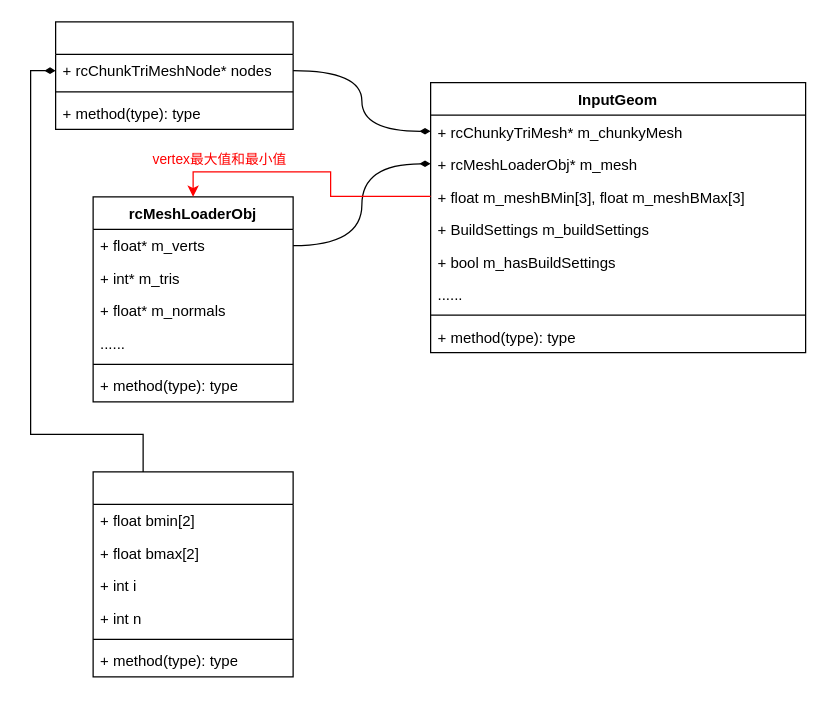
Image size: 828x703. Some labels were removed from this diagram. The box of each missing label's shape, as (x1, y1, x2, y2) in pixels:
rcChunkyTriMesh: (54, 21, 293, 129)
rcChunkyTriMeshNode: (92, 471, 293, 677)
